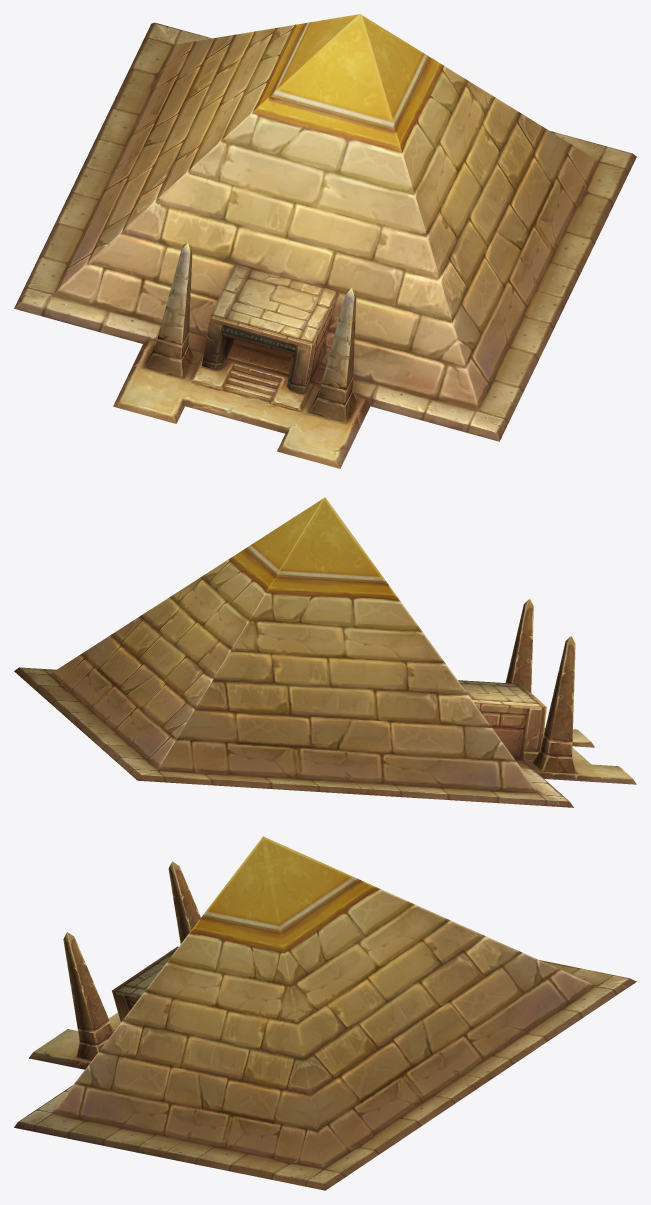
The picture shows the model from 3 angles, top to bottom: view 1: azimuth 30°, elevation 25°; view 2: azimuth 150°, elevation 25°; view 3: azimuth 270°, elevation 25°; orthographic projection. The views are drawn at different scales.
Parts seen in each view (by area): view 1: Bone001; view 2: Bone001; view 3: Bone001.
Boxes of the visible parts, x1,y1,x2,y2 form: Bone001: (14, 14, 636, 468); Bone001: (14, 497, 636, 807); Bone001: (14, 836, 636, 1190).
Size of the model in its own units: 98.11 by 49.03 by 94.99.
